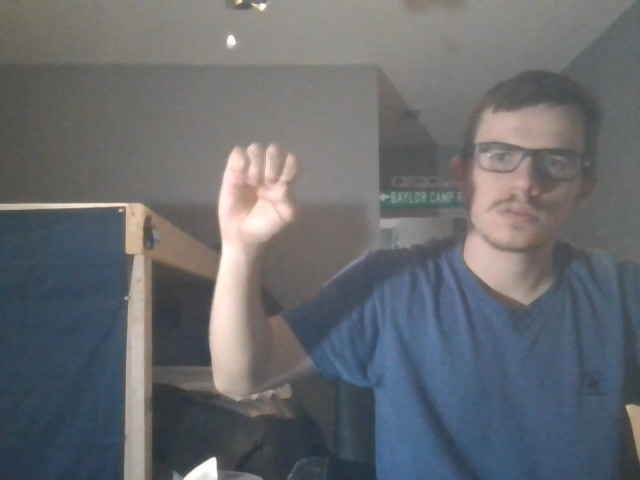E: (200, 142, 323, 251)
